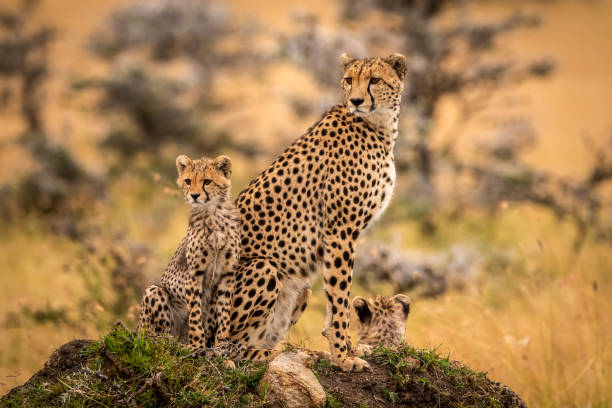cheetah: (330, 43, 425, 128)
